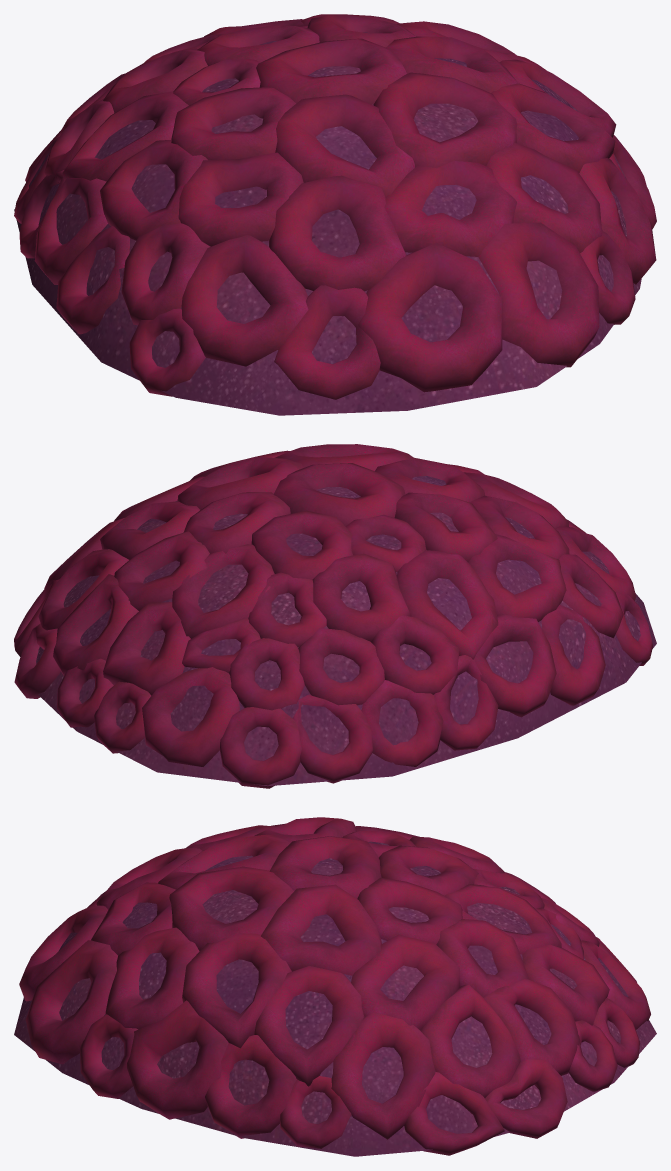
The model's file is plant_07.fbx.
The picture shows the model from 3 angles, top to bottom: view 1: azimuth 30°, elevation 25°; view 2: azimuth 150°, elevation 25°; view 3: azimuth 270°, elevation 25°; orthographic projection. The views are drawn at different scales.
Visible parts, largest first — view 1: polySurface1, pCube1; view 2: polySurface1, pCube1; view 3: polySurface1, pCube1.
Boxes of the visible parts, x1,y1,x2,y2 form: polySurface1: [14, 14, 656, 399]; pCube1: [14, 32, 641, 415]; polySurface1: [14, 444, 652, 788]; pCube1: [36, 476, 656, 786]; polySurface1: [19, 817, 650, 1155]; pCube1: [14, 841, 656, 1156].
Bounding box in the file's own units: 6.85 × 2.35 × 7.47.
